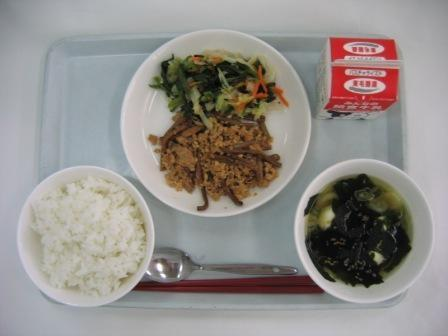Milk: (302, 34, 416, 133)
Rice: (12, 185, 152, 305)
Soups: (296, 173, 436, 296)
cooked food based on meat: (149, 109, 282, 212)
salad with sauce: (148, 50, 289, 129)
